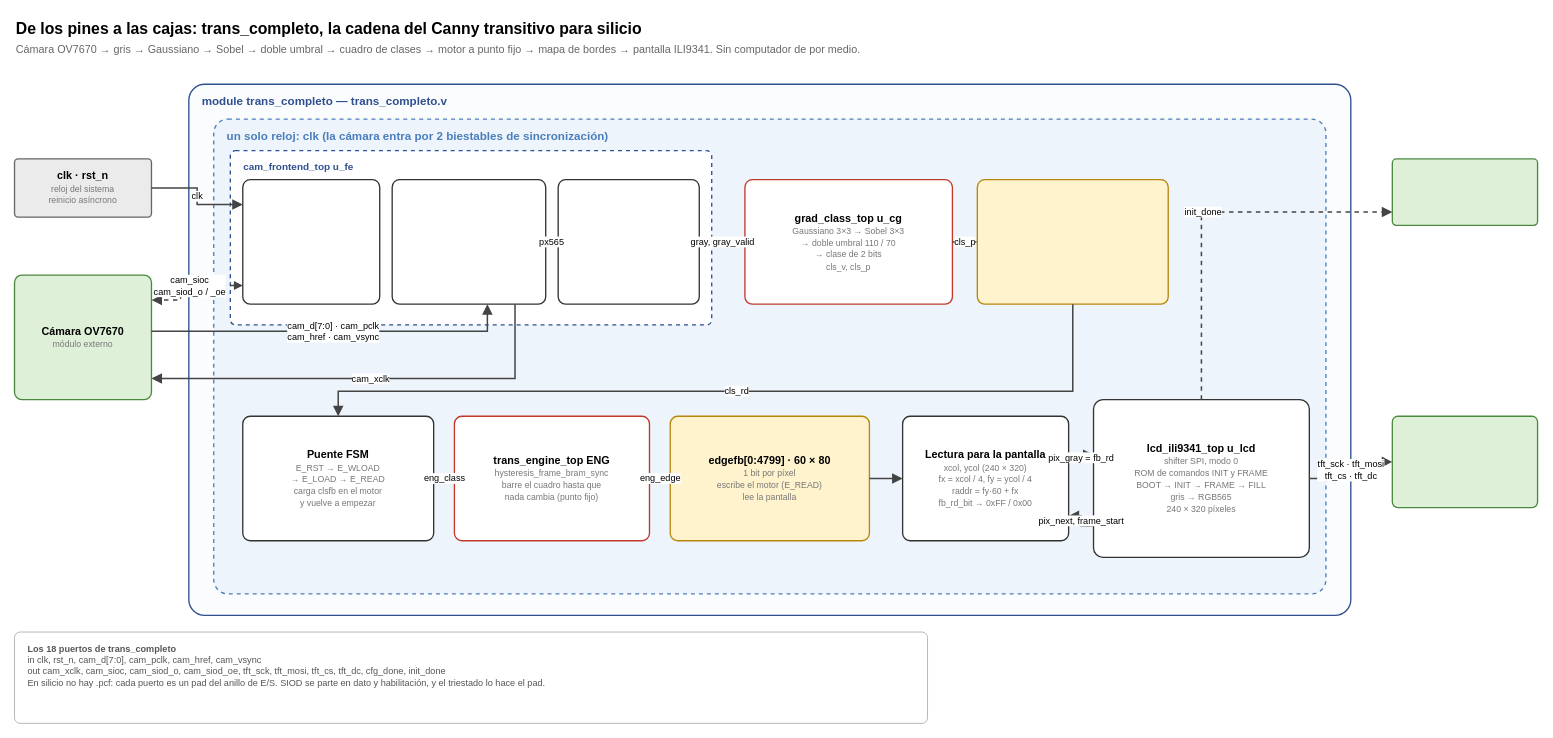
The diagram is 1553 pixels wide and 738 high, and some of its shapes have lost their labels. The shapes that lost their labels are listed below. From the top down, each one's centre as x and y in pixels, then its label:
At point (1464, 192): "Estado cfg_done ← ov7670_sccb init_done ← lcd_ili9341_top".
At point (311, 241): "ov7670_sccb configura la cámara al arrancar SIOD: dato + enable".
At point (468, 241): "ov7670_capture genera cam_xclk PCLK/HREF/VSYNC → 2-FF 2 bytes → RGB565".
At point (628, 241): "rgb565_to_gray Y = (R + 2G + B) >> 2 sin multiplicar gray, gray_valid".
At point (1072, 241): "clsfb[0:4799] 60 × 80 × 2 bits escribe la cámara lee el motor (cls_rd)".
At point (1464, 461): "Pantalla TFT ILI9341".
